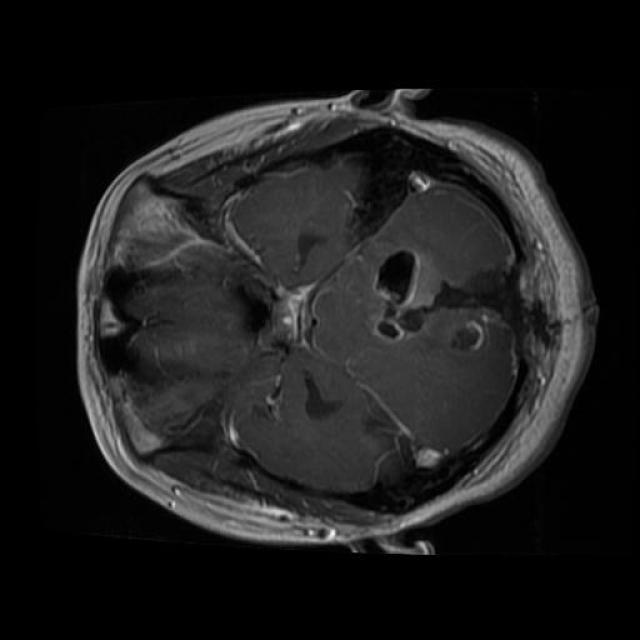Glioma: (374, 248, 516, 350)
